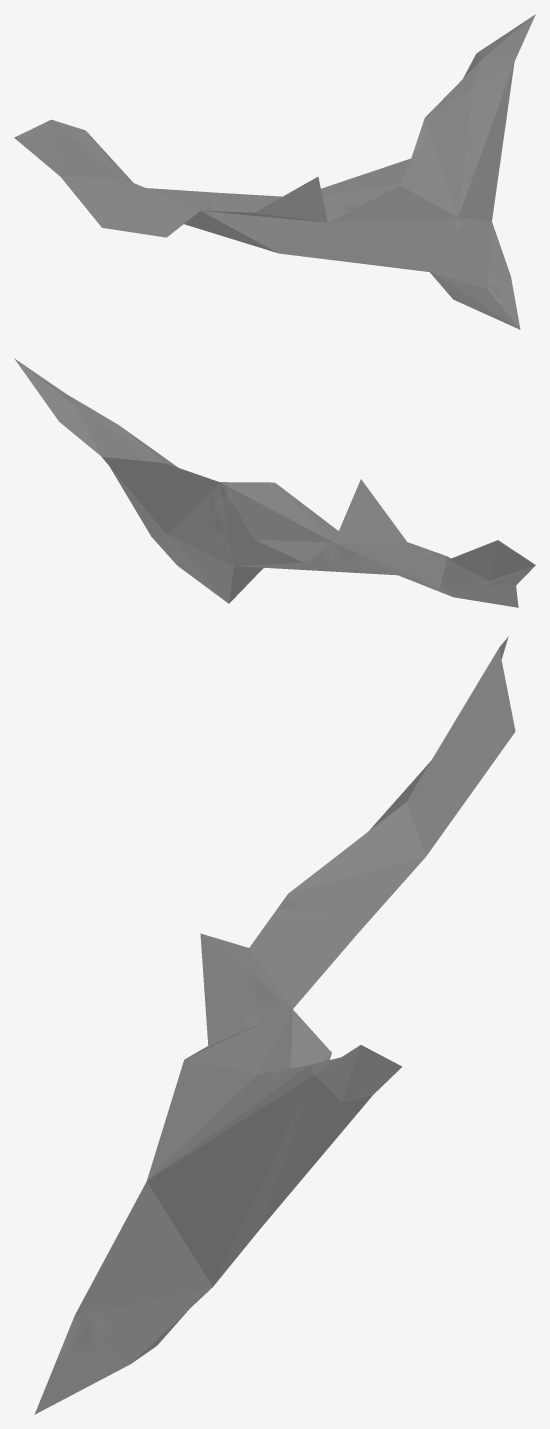
The model's file is Tile_+004_+003_L19_0uuuu6.glb.
3 renders of one model, top to bottom at view 1: azimuth 30°, elevation 25°; view 2: azimuth 150°, elevation 25°; view 3: azimuth 270°, elevation 25°, orthographic. The views are drawn at different scales.
Parts seen in each view (by area): view 1: rtc; view 2: rtc; view 3: rtc.
Boxes of the visible parts, box(x1,y1,x2,y2) form: rtc: box(14, 14, 535, 329); rtc: box(14, 358, 535, 607); rtc: box(34, 636, 515, 1414).
Bounding box in the file's own units: 7.95 × 3.64 × 3.42.
Materials: 1 (1 with a texture image).
